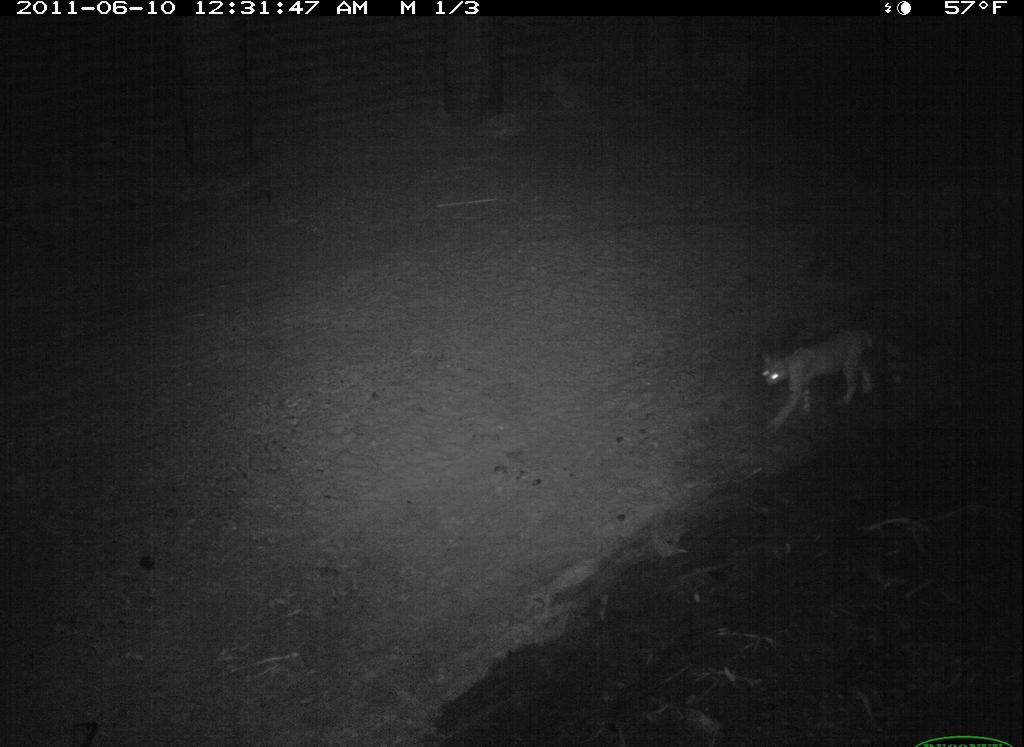bobcat: (713, 306, 917, 454)
